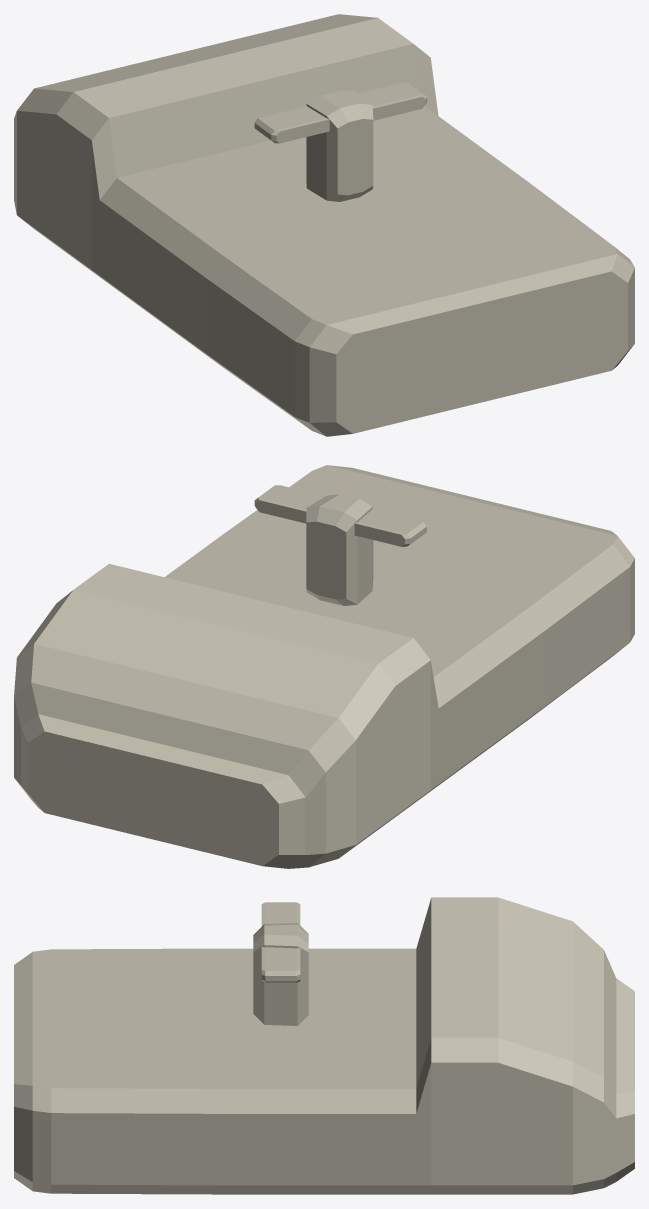
The model's file is durham_scout_a.glb.
3 views of the same model, one above another, from view 1: azimuth 30°, elevation 25°; view 2: azimuth 150°, elevation 25°; view 3: azimuth 270°, elevation 25° (orthographic). The views are drawn at different scales.
Visible parts, largest first — view 1: durham_scout_a; view 2: durham_scout_a; view 3: durham_scout_a.
Part boxes in pixels (x1=…): durham_scout_a: x1=14, y1=14, x2=634, y2=436; durham_scout_a: x1=14, y1=465, x2=634, y2=868; durham_scout_a: x1=14, y1=897, x2=634, y2=1194.
Bounding box in the file's own units: 2.5 × 1.45 × 4.2.
